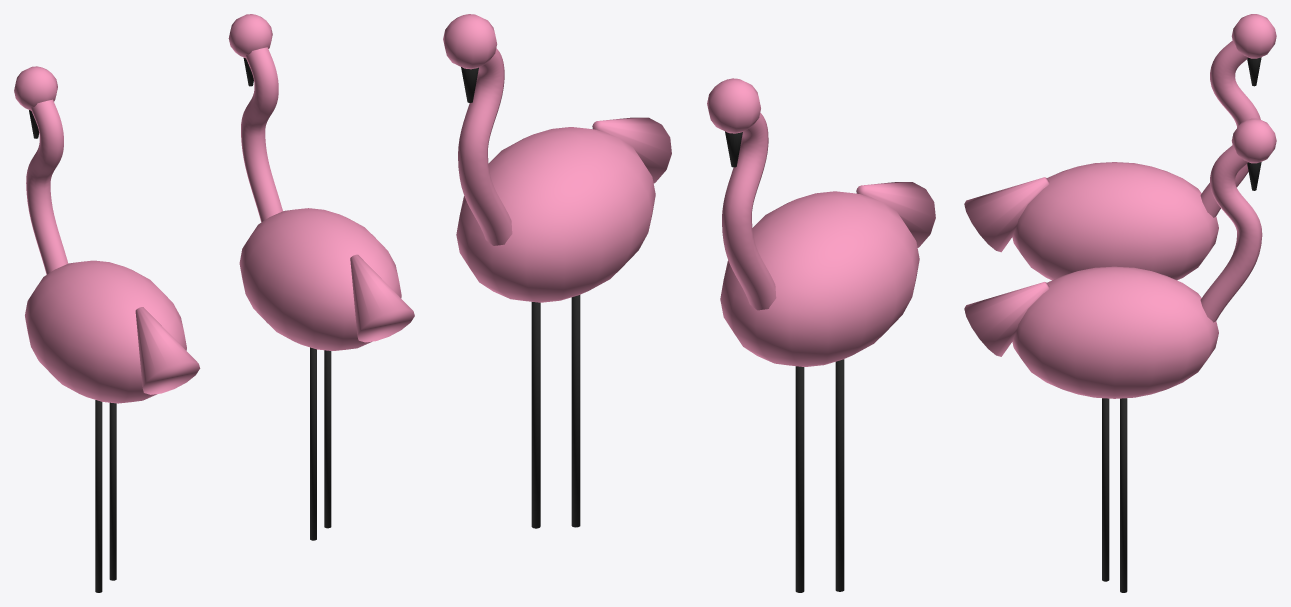
The model's file is WK_PRP_Flamingo.glb.
The picture shows the model from 3 angles, left to right: view 1: azimuth 30°, elevation 25°; view 2: azimuth 150°, elevation 25°; view 3: azimuth 270°, elevation 25°; orthographic projection. The views are drawn at different scales.
Visible parts, largest first — view 1: WK_PRP_Flamingo_P01, WK_PRP_Flamingo_P08, WK_PRP_Flamingo_P03, WK_PRP_Flamingo_P10, WK_PRP_Flamingo_P02, WK_PRP_Flamingo_P09, WK_PRP_Flamingo_P07, WK_PRP_Flamingo_P04, WK_PRP_Flamingo_P11, WK_PRP_Flamingo_P06, WK_PRP_Flamingo_P13, WK_PRP_Flamingo_P14; view 2: WK_PRP_Flamingo_P08, WK_PRP_Flamingo_P01, WK_PRP_Flamingo_P10, WK_PRP_Flamingo_P03, WK_PRP_Flamingo_P09, WK_PRP_Flamingo_P02, WK_PRP_Flamingo_P11, WK_PRP_Flamingo_P04, WK_PRP_Flamingo_P07, WK_PRP_Flamingo_P14, WK_PRP_Flamingo_P06, WK_PRP_Flamingo_P13; view 3: WK_PRP_Flamingo_P08, WK_PRP_Flamingo_P01, WK_PRP_Flamingo_P10, WK_PRP_Flamingo_P09, WK_PRP_Flamingo_P02, WK_PRP_Flamingo_P03, WK_PRP_Flamingo_P13, WK_PRP_Flamingo_P11, WK_PRP_Flamingo_P04, WK_PRP_Flamingo_P14.
Boxes of the visible parts, x1,y1,x2,y2 form: WK_PRP_Flamingo_P01: (25,260,186,403); WK_PRP_Flamingo_P08: (239,208,401,350); WK_PRP_Flamingo_P03: (26,99,68,274); WK_PRP_Flamingo_P10: (241,47,282,222); WK_PRP_Flamingo_P02: (135,307,200,394); WK_PRP_Flamingo_P09: (350,254,414,342); WK_PRP_Flamingo_P07: (95,400,102,592); WK_PRP_Flamingo_P04: (14,66,57,110); WK_PRP_Flamingo_P11: (228,14,272,58); WK_PRP_Flamingo_P06: (109,402,116,580); WK_PRP_Flamingo_P13: (324,350,331,528); WK_PRP_Flamingo_P14: (310,347,316,540); WK_PRP_Flamingo_P08: (456,127,655,302); WK_PRP_Flamingo_P01: (720,191,919,366); WK_PRP_Flamingo_P10: (458,48,512,245); WK_PRP_Flamingo_P03: (722,113,776,310); WK_PRP_Flamingo_P09: (592,117,671,183); WK_PRP_Flamingo_P02: (856,182,935,247); WK_PRP_Flamingo_P11: (443,14,497,69); WK_PRP_Flamingo_P04: (707,78,760,133); WK_PRP_Flamingo_P07: (835,359,844,591); WK_PRP_Flamingo_P14: (571,295,580,527); WK_PRP_Flamingo_P06: (795,366,804,592); WK_PRP_Flamingo_P13: (531,302,540,528); WK_PRP_Flamingo_P08: (1012,266,1218,398); WK_PRP_Flamingo_P01: (1012,162,1218,280); WK_PRP_Flamingo_P10: (1200,145,1262,322); WK_PRP_Flamingo_P09: (964,282,1049,356); WK_PRP_Flamingo_P02: (964,177,1049,252); WK_PRP_Flamingo_P03: (1200,40,1260,217); WK_PRP_Flamingo_P13: (1120,398,1127,592); WK_PRP_Flamingo_P11: (1231,118,1276,163); WK_PRP_Flamingo_P04: (1231,14,1276,58); WK_PRP_Flamingo_P14: (1102,398,1109,581).
Bounding box in the file's own units: 0.87 × 1.14 × 0.694.
